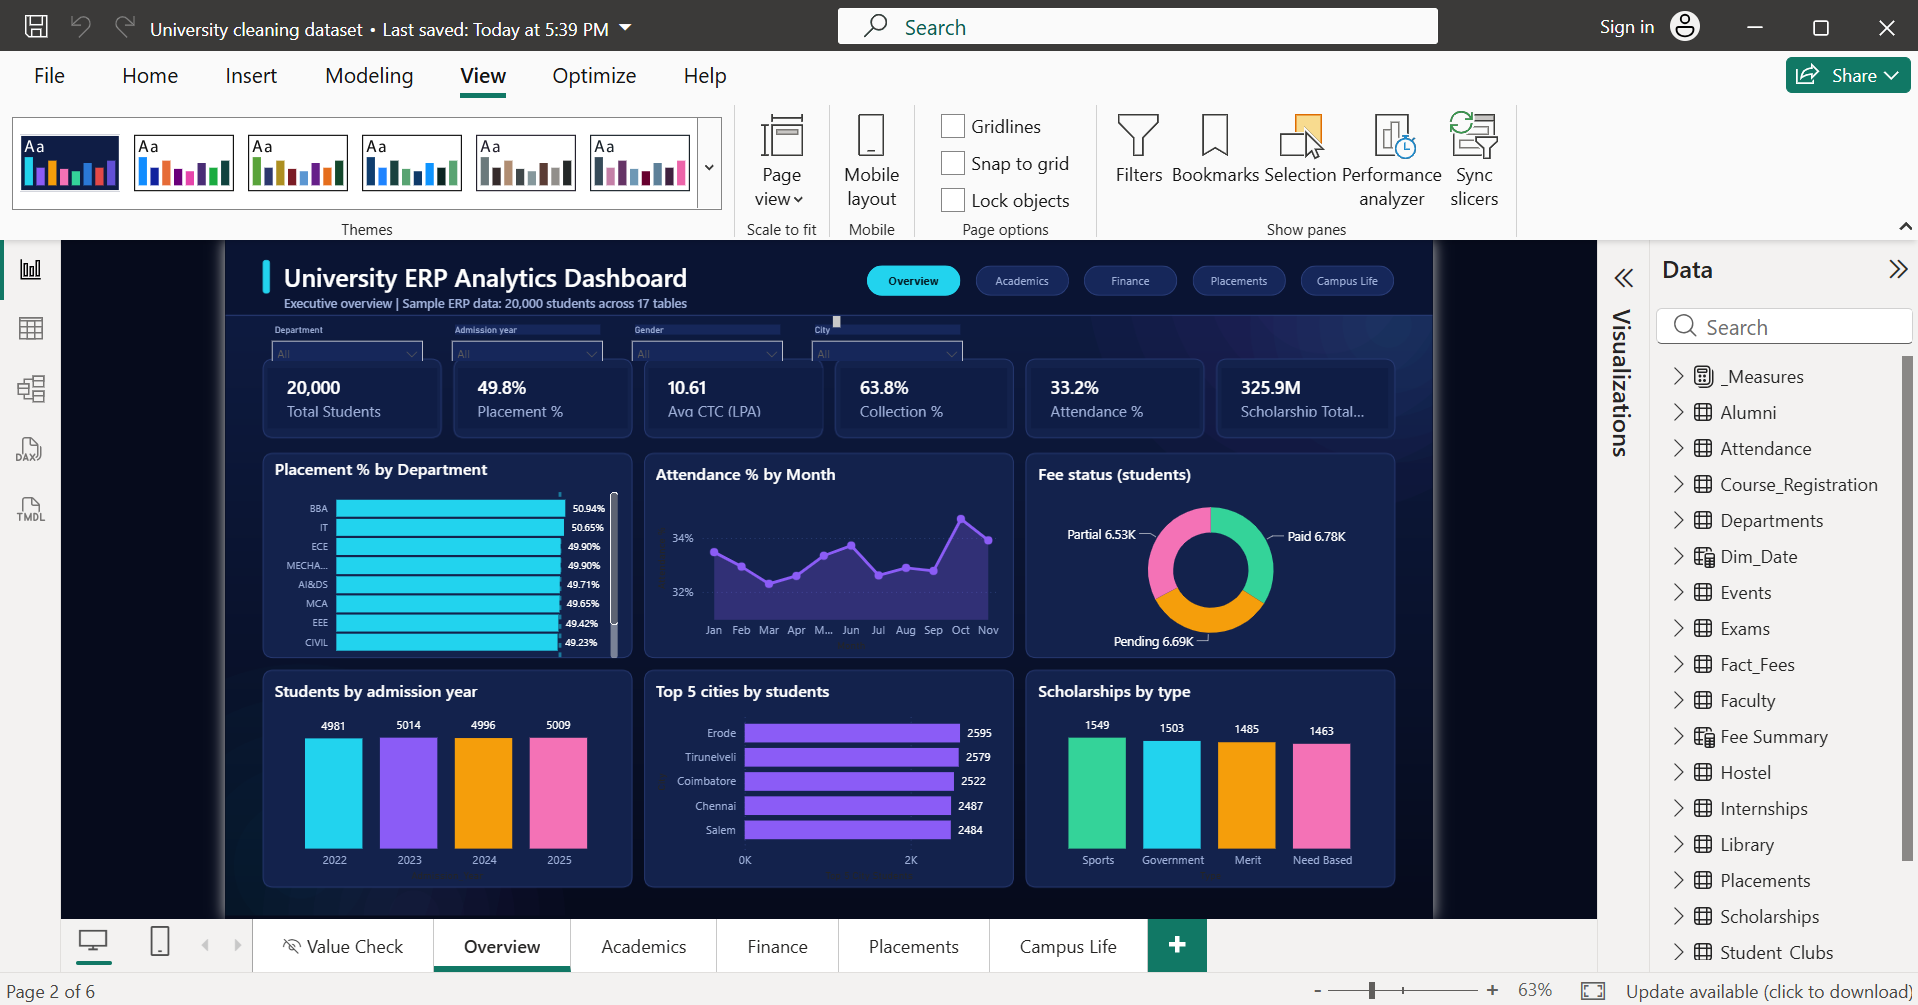

This screenshot's page, from the dashboard's own definition file:
{"tool":"powerbi","page":{"name":"Overview","canvas":[1280,720],"ordinal":1},"visuals":[{"type":"textbox","title":"University ERP Analytics Dashboard","box":[57,20,600,40],"z":0},{"type":"slicer","fields":{"Values":["Students.Admission_Year"]},"box":[231,84,180,44],"z":1000},{"type":"slicer","fields":{"Values":["Students.Gender"]},"box":[421,84,180,44],"z":2000},{"type":"slicer","fields":{"Values":["Students.City"]},"box":[612,84,180,44],"z":3000},{"type":"areaChart","fields":{"Category":["Dim_Date.Month"],"Y":["_Measures.Attendance %"]},"box":[452,236,375,205],"z":4000},{"type":"donutChart","title":"Fee status (students)","fields":{"Category":["Fact_Fees.Fee_Status_Clean"],"Y":["CountNonNull(Fact_Fees.Fee_ID)"]},"box":[857,236,375.4,205.2],"z":5000},{"type":"clusteredColumnChart","title":"Students by admission year","fields":{"Category":["Students.Admission_Year"],"Y":["_Measures.Total Students"]},"box":[48,466,375.4,218],"z":6000},{"type":"clusteredBarChart","title":"Top 5 cities by students","fields":{"Category":["Students.City"],"Y":["_Measures.Top 5 City Students"]},"box":[452,466,375,218],"z":7000},{"type":"clusteredColumnChart","title":"Scholarships by type","fields":{"Category":["Scholarships.Type"],"Y":["CountNonNull(Scholarships.Scholarship_ID)"]},"box":[857,466,375,218],"z":8000},{"type":"textbox","title":"Executive overview | Sample ERP data: 20,000 students across 17 tables","box":[57,58,600,40],"z":9000},{"type":"pageNavigator","box":[680,27,560,32],"z":10000},{"type":"slicer","fields":{"Values":["Departments.Department_Name"]},"box":[40,84,180,44],"z":11000},{"type":"clusteredBarChart","title":"Placement % by Department","fields":{"Category":["Departments.Department_Name"],"Y":["_Measures.Placement %"]},"box":[47.7,230.6,373.8,217.9],"z":12000},{"type":"cardVisual","fields":{"Data":["_Measures.Total Students (Text)"]},"box":[39.8,130.4,190.9,74.8],"z":13000},{"type":"cardVisual","fields":{"Data":["_Measures.Placement %"]},"box":[241.8,130.4,190.9,74.8],"z":14000},{"type":"cardVisual","fields":{"Data":["_Measures.Avg CTC (LPA)"]},"box":[443.8,130.4,195.6,74.8],"z":15000},{"type":"cardVisual","fields":{"Data":["_Measures.Collection %"]},"box":[647.4,130.4,187.7,74.8],"z":16000},{"type":"cardVisual","fields":{"Data":["_Measures.Attendance %"]},"box":[849.4,130.4,189.3,74.8],"z":17000},{"type":"cardVisual","fields":{"Data":["_Measures.Scholarship Total (M)1"]},"box":[1051.4,130.4,187.7,74.8],"z":18000}]}

Visuals, with their boxes on the page's 1280x720 design canvas (x1, y1, x2, y2). These are canvas units, not pixel positions in the 1918x1005 screenshot, which may show the page scaled, cropped or inside an application window:
"University ERP Analytics Dashboard" textbox: bbox=(57, 20, 657, 60)
slicer - Students.Admission_Year: bbox=(231, 84, 411, 128)
slicer - Students.Gender: bbox=(421, 84, 601, 128)
slicer - Students.City: bbox=(612, 84, 792, 128)
areaChart - Dim_Date.Month x _Measures.Attendance %: bbox=(452, 236, 827, 441)
"Fee status (students)" donutChart: bbox=(857, 236, 1232, 441)
"Students by admission year" clusteredColumnChart: bbox=(48, 466, 423, 684)
"Top 5 cities by students" clusteredBarChart: bbox=(452, 466, 827, 684)
"Scholarships by type" clusteredColumnChart: bbox=(857, 466, 1232, 684)
"Executive overview | Sample ERP data: 20,000 students across 17 tables" textbox: bbox=(57, 58, 657, 98)
pageNavigator: bbox=(680, 27, 1240, 59)
slicer - Departments.Department_Name: bbox=(40, 84, 220, 128)
"Placement % by Department" clusteredBarChart: bbox=(48, 231, 422, 448)
cardVisual - _Measures.Total Students (Text): bbox=(40, 130, 231, 205)
cardVisual - _Measures.Placement %: bbox=(242, 130, 433, 205)
cardVisual - _Measures.Avg CTC (LPA): bbox=(444, 130, 639, 205)
cardVisual - _Measures.Collection %: bbox=(647, 130, 835, 205)
cardVisual - _Measures.Attendance %: bbox=(849, 130, 1039, 205)
cardVisual - _Measures.Scholarship Total (M)1: bbox=(1051, 130, 1239, 205)
